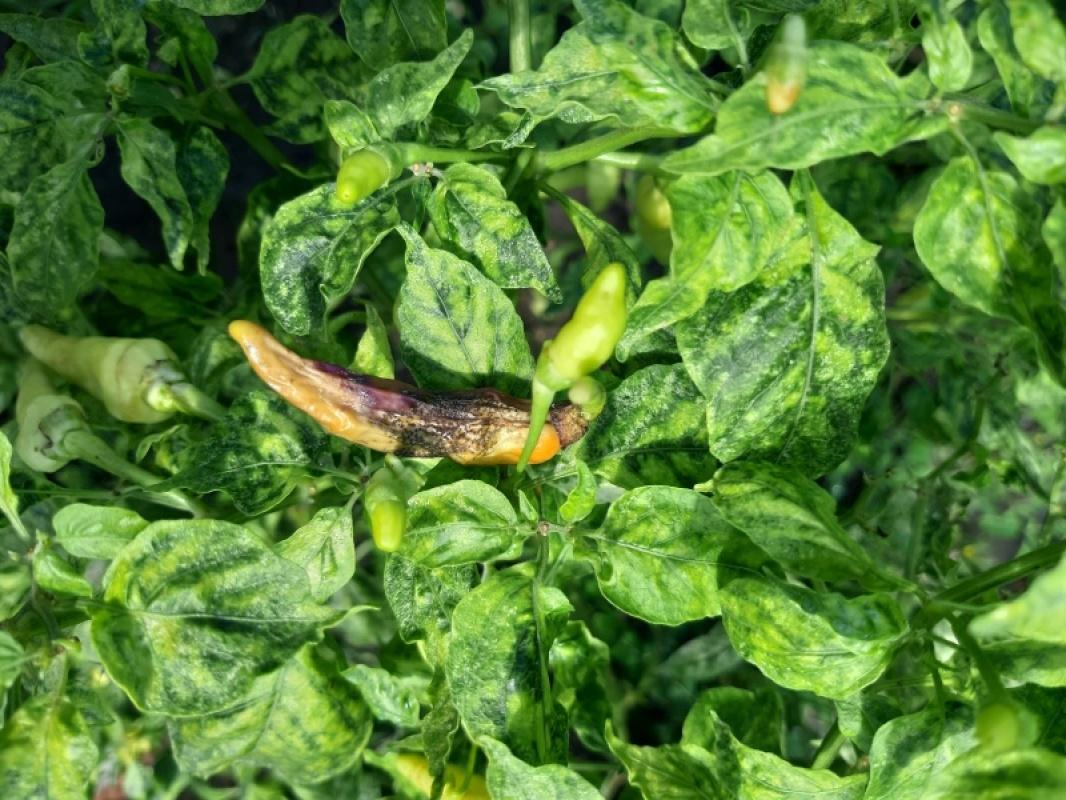antraknosa: (226, 320, 586, 473)
cabai_normal: (533, 261, 633, 380)
